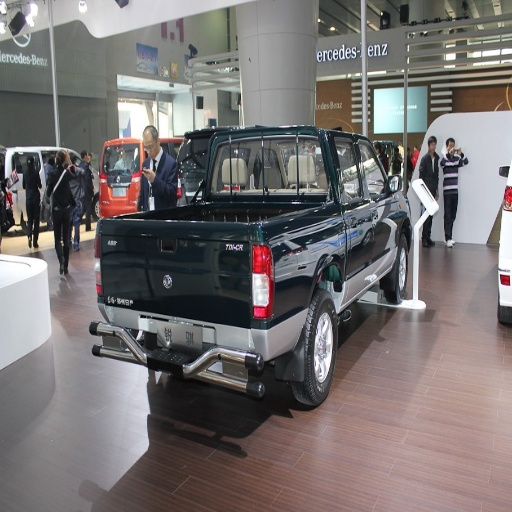trunk: (118, 220, 339, 353)
